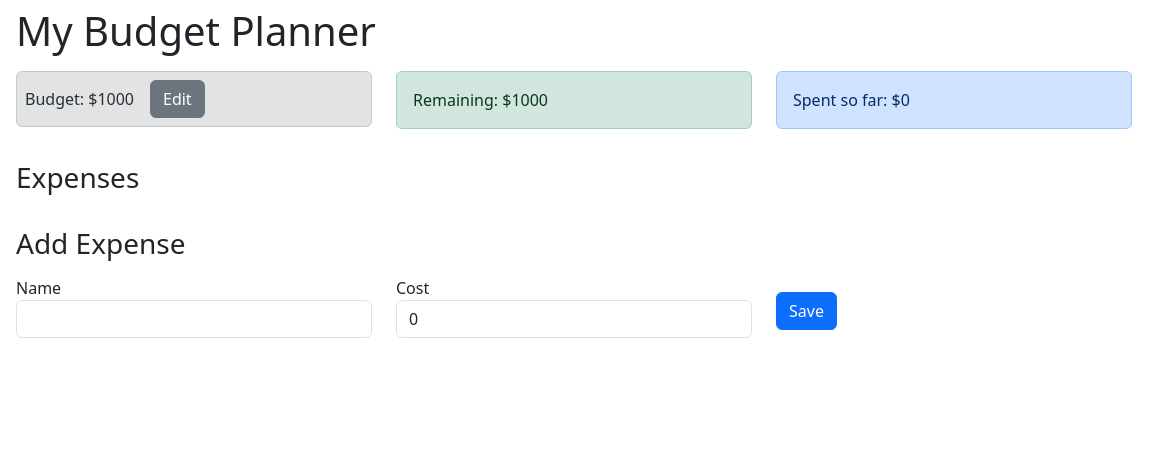
creates expenses
Type "Test Expense 1" into the field labelled "Name". click: (194,319)
box: [16, 300, 372, 338]
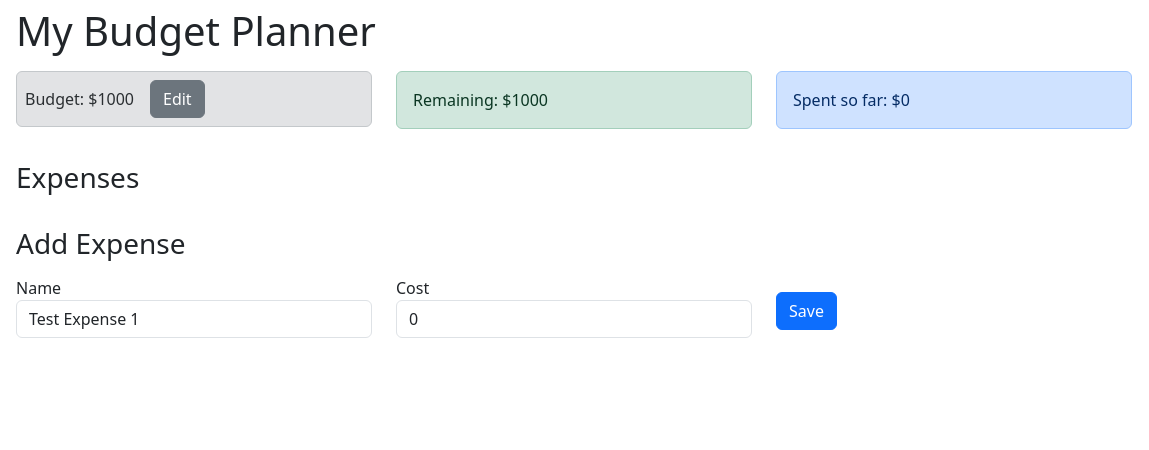
Replace the text in the field labelled "Cost" with "100". click: (574,319)
box: [396, 300, 752, 338]
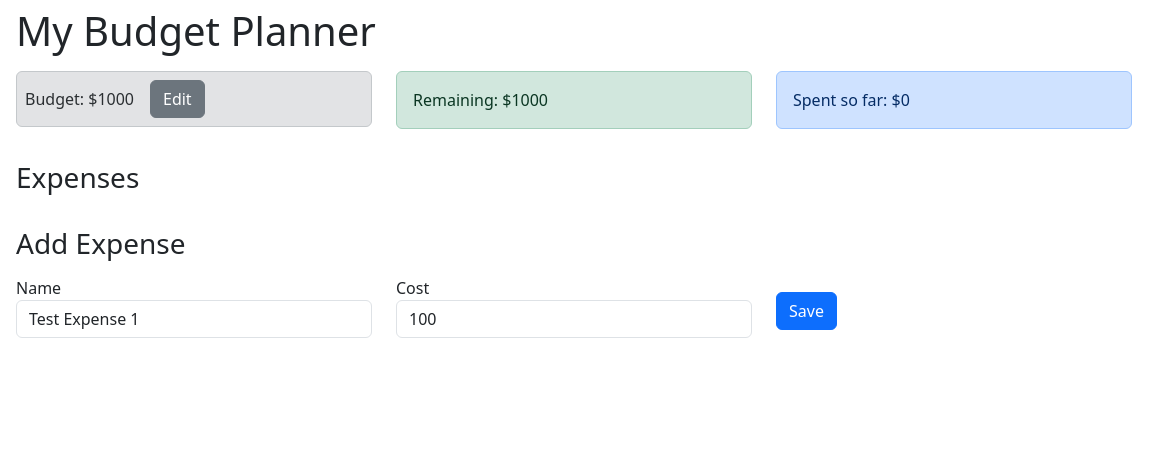
Click the button "Save". click: (806,311)
box: [776, 292, 837, 330]
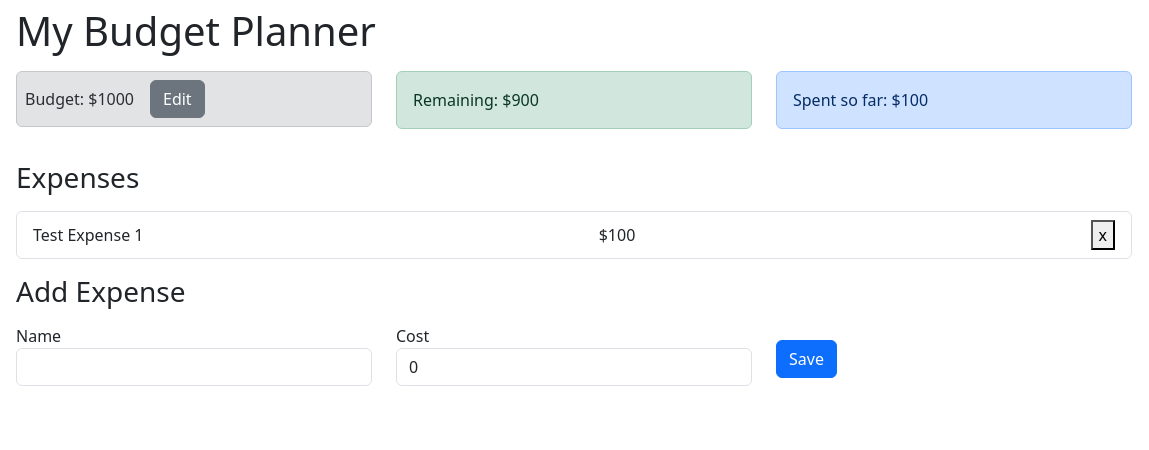
Expected: the text "Test Expense 1" is shown, [33, 223, 144, 247]
Expected: the text "Spent so far: $100" is shown, [793, 89, 928, 111]
Expected: the text "Remaining: $900" is shown, [413, 89, 539, 111]
Type "Test Expense 2" into the field labelled "Name". click: (194,367)
box: [16, 348, 372, 386]
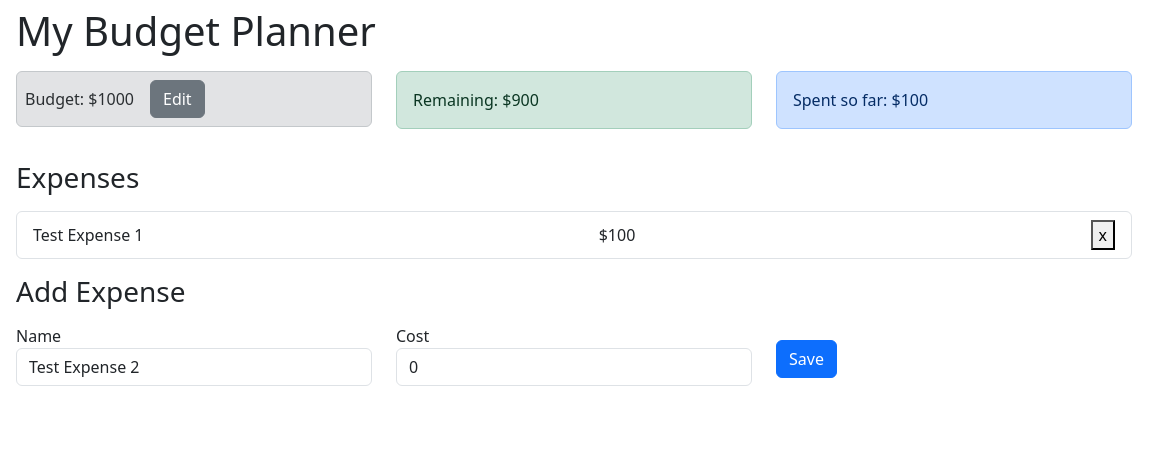
Replace the text in the field labelled "Cost" with "900". click: (574,367)
box: [396, 348, 752, 386]
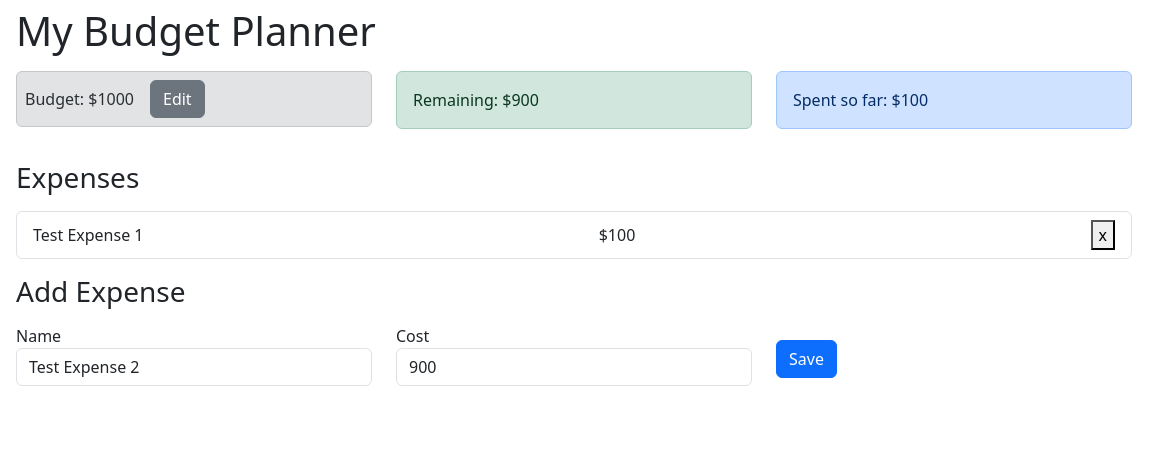
Click the button "Save". click: (806,359)
box: [776, 340, 837, 378]
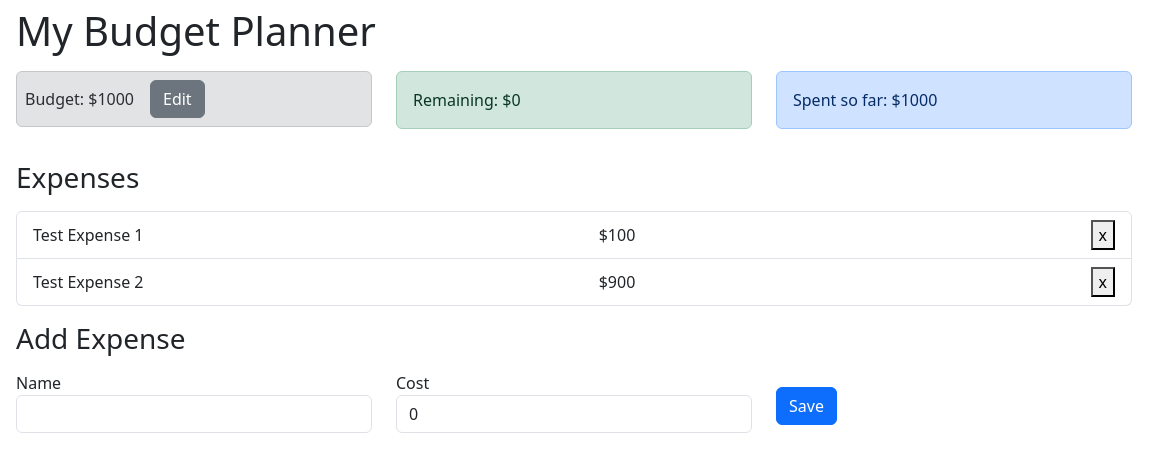
Expected: the text "Remaining: $0" is shown, [413, 89, 520, 111]
Expected: the text "Test Expense 2" is shown, [33, 270, 144, 294]
Expected: the text "Spent so far: $1000" is shown, [793, 89, 937, 111]
